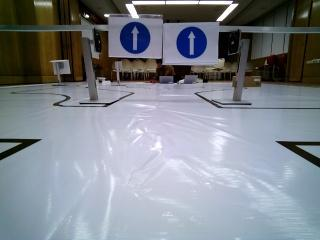straight: (165, 23, 220, 63), (109, 16, 162, 57)
